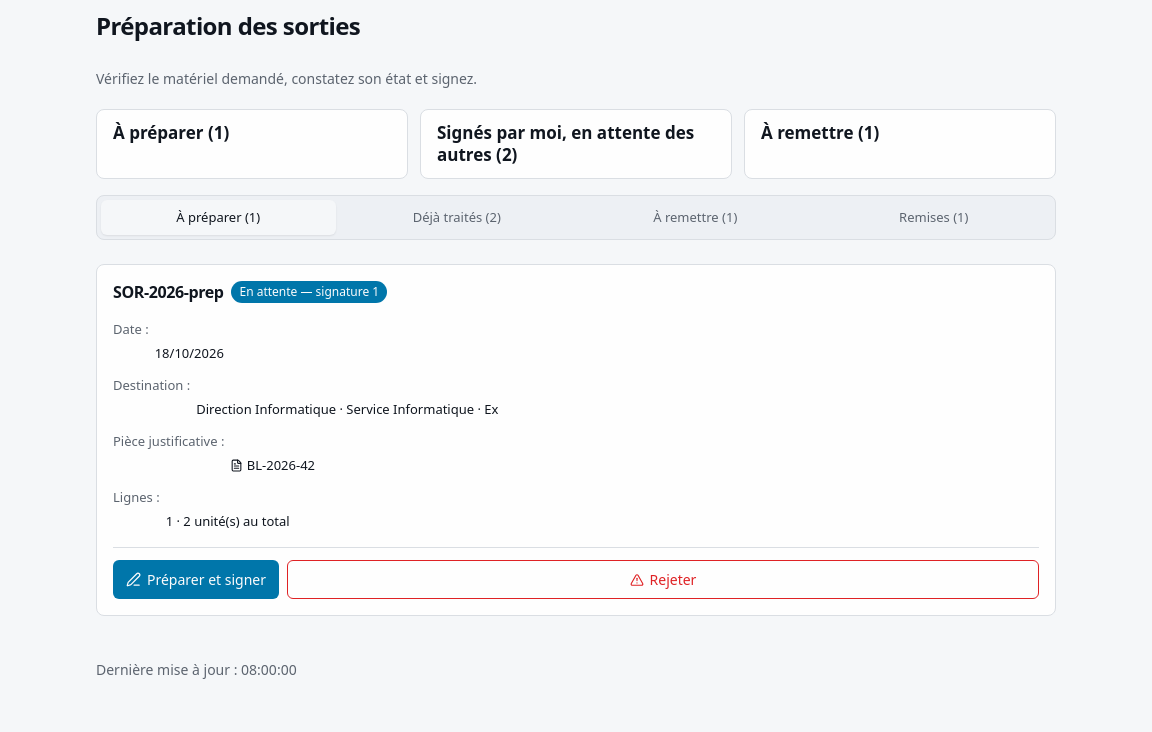
it: (6) espace magasinier — onglets de remise › I2 : « Remises » ne montre QUE les sorties effectuées, en lecture seule
This screenshot has width=1152, height=732.
Click the tab "Remises (1)" at (934, 218), box [816,200,1051,236]
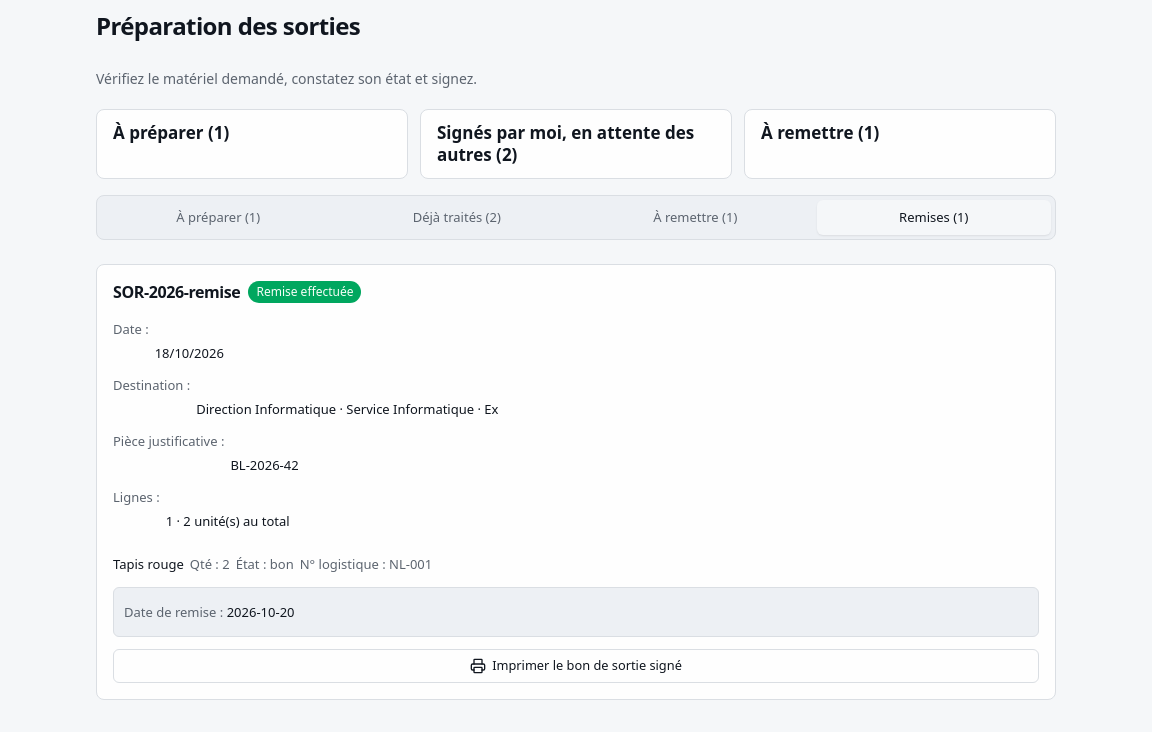
Now the heading "SOR-2026-remise" is shown, box [113,282,240,303]
Now the heading "SOR-2026-prep" is gone
Now the text "Date de remise :" is shown, box [124,603,223,621]
